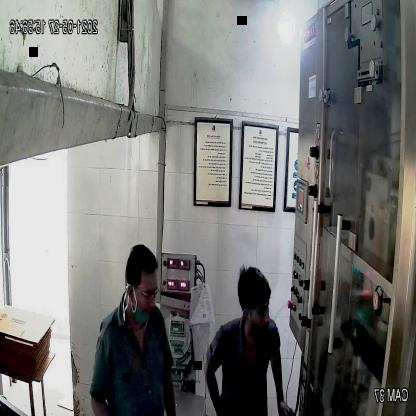no_goggles: (240, 301, 272, 322)
